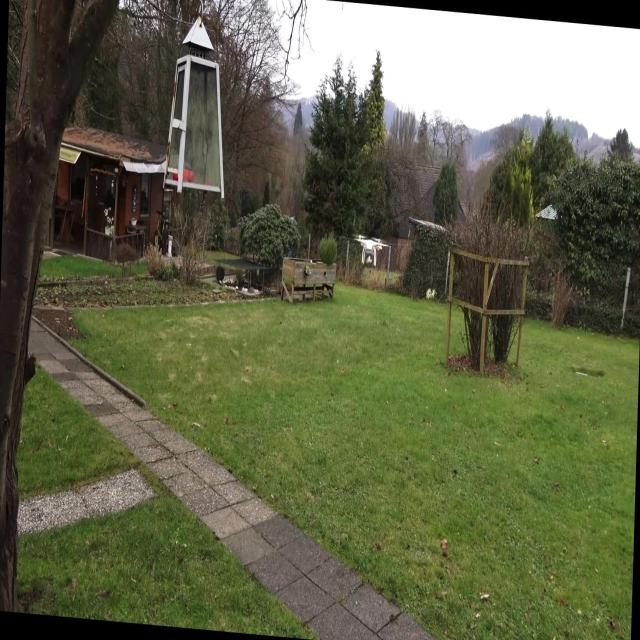drone: (354, 228, 386, 274)
